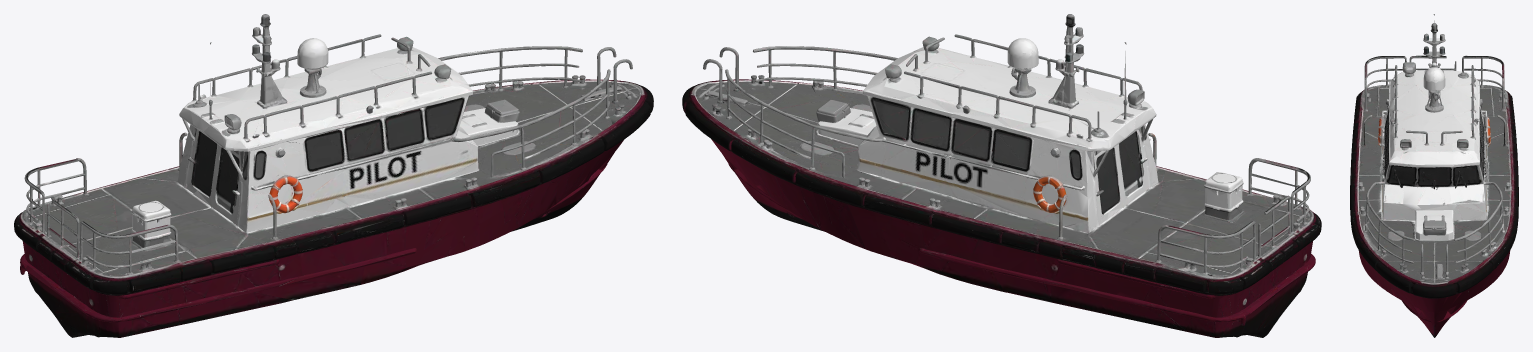
File: 09_pilot_boat_16m.glb
The picture shows the model from 3 angles, left to right: view 1: azimuth 30°, elevation 25°; view 2: azimuth 150°, elevation 25°; view 3: azimuth 270°, elevation 25°; orthographic projection. The views are drawn at different scales.
Visible parts, largest first — view 1: Mesh_0; view 2: Mesh_0; view 3: Mesh_0.
Boxes of the visible parts, left/top/right/bottom form: Mesh_0: left=14, top=14, right=653, bottom=337; Mesh_0: left=682, top=14, right=1321, bottom=337; Mesh_0: left=1350, top=14, right=1518, bottom=337.
Bounding box in the file's own units: 16 × 7.12 × 5.2.
Materials: 1 (1 with a texture image).
